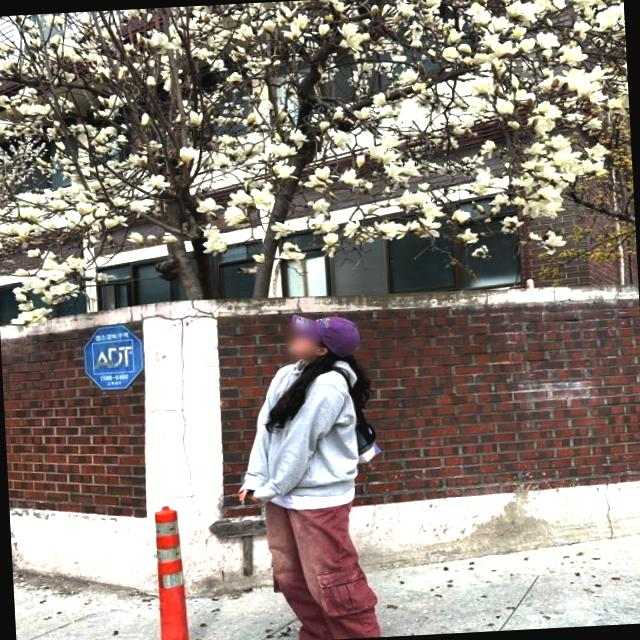cottonpants: (264, 497, 391, 640)
hoodies: (240, 354, 369, 509)
